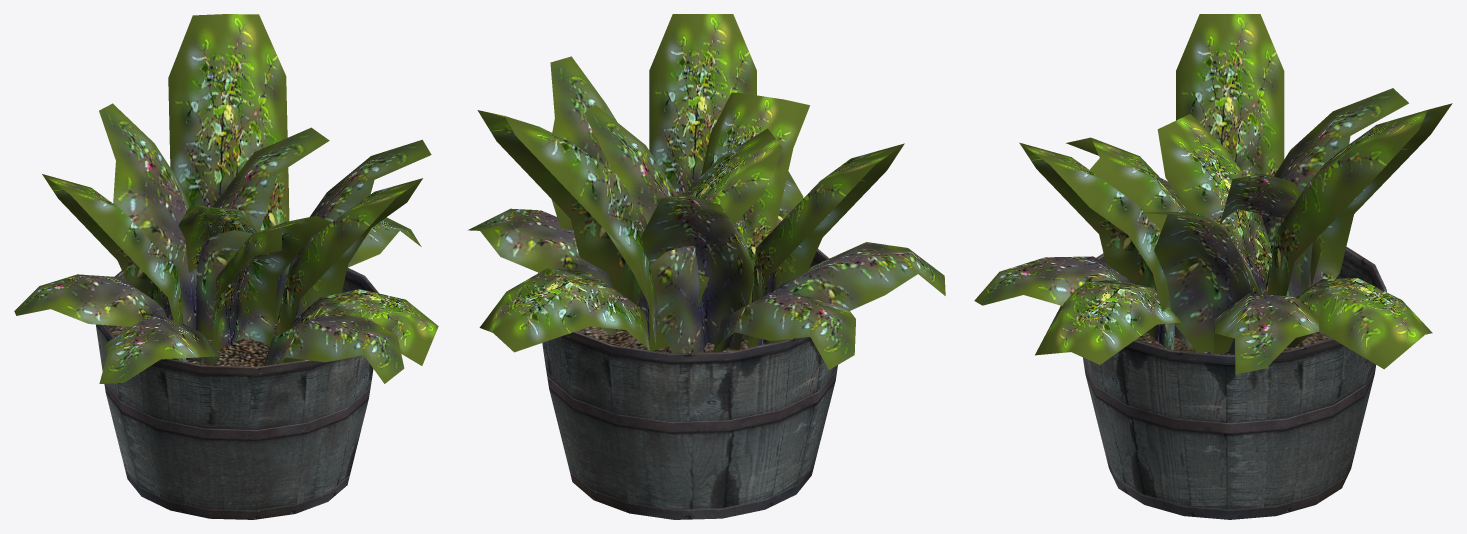
Rendered from flower_barrel.glb.
3 renders of one model, left to right at view 1: azimuth 30°, elevation 25°; view 2: azimuth 150°, elevation 25°; view 3: azimuth 270°, elevation 25°, orthographic. The views are drawn at different scales.
Parts seen in each view (by area): view 1: flower_barrel; view 2: flower_barrel; view 3: flower_barrel.
Boxes of the visible parts, left/top/right/bottom form: flower_barrel: left=14, top=14, right=438, bottom=519; flower_barrel: left=468, top=14, right=945, bottom=519; flower_barrel: left=974, top=14, right=1452, bottom=519.
Bounding box in the file's own units: 1.12 × 1.06 × 1.14.
1 material, 1 textured.
